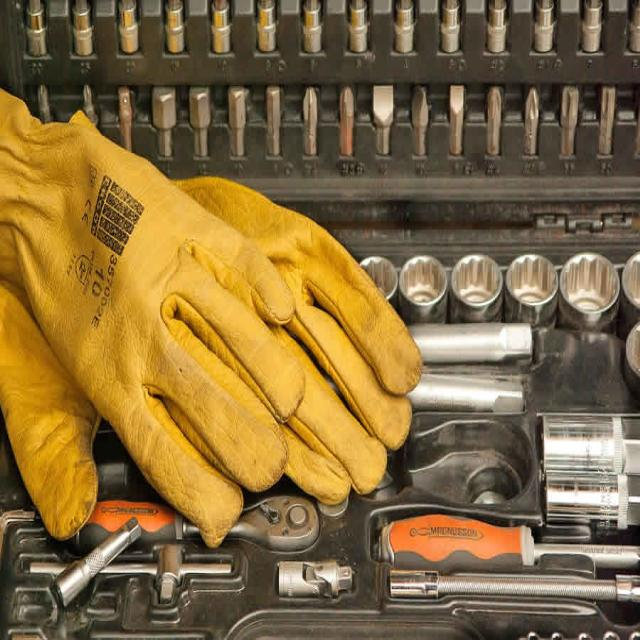gloves: (0, 90, 302, 544), (122, 173, 426, 501)
